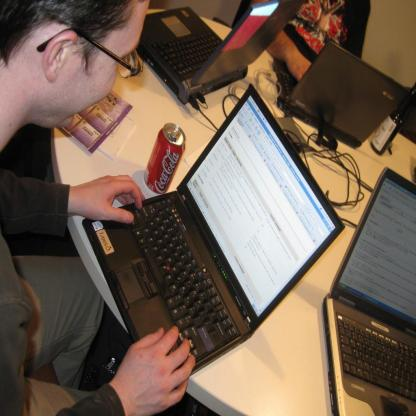board: (73, 80, 341, 402), (323, 168, 416, 416), (136, 0, 304, 104), (272, 42, 408, 148), (144, 122, 184, 195)
